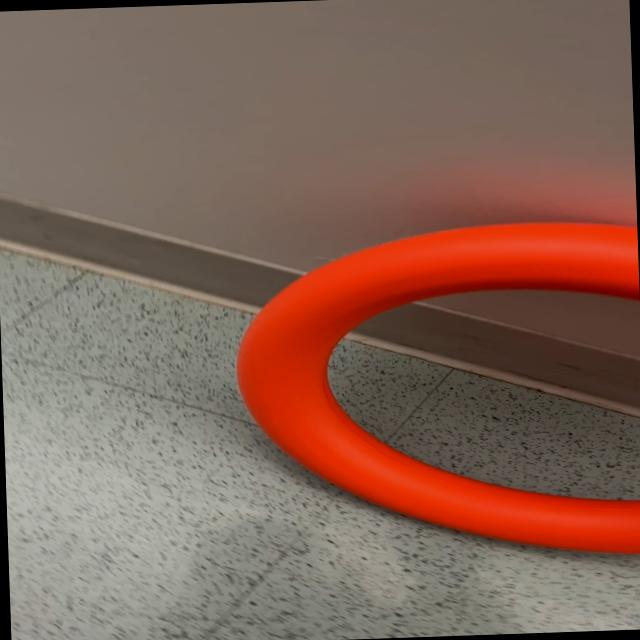note: (228, 216, 640, 568)
